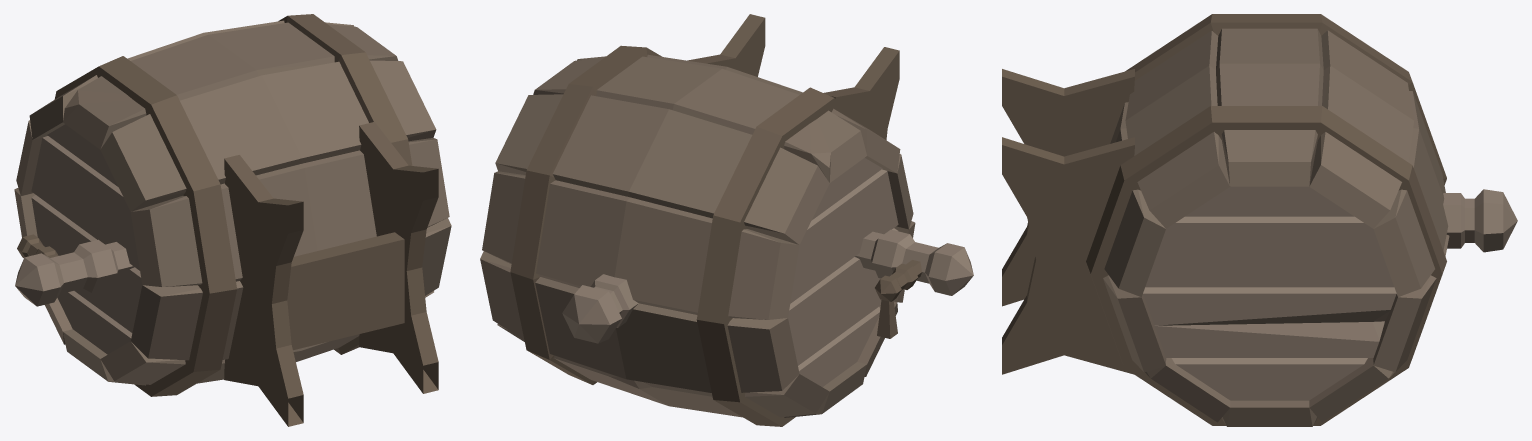
File: barrel.glb
The picture shows the model from 3 angles, left to right: view 1: azimuth 30°, elevation 25°; view 2: azimuth 150°, elevation 25°; view 3: azimuth 270°, elevation 25°; orthographic projection. The views are drawn at different scales.
Parts seen in each view (by area): view 1: barrel; view 2: barrel; view 3: barrel.
Part boxes in pixels (x1=…): barrel: x1=14, y1=14, x2=451, y2=426; barrel: x1=480, y1=14, x2=973, y2=426; barrel: x1=1002, y1=14, x2=1517, y2=426.
Size of the model in its own units: 0.7861 by 0.5727 by 0.85.
1 material, 1 textured.
